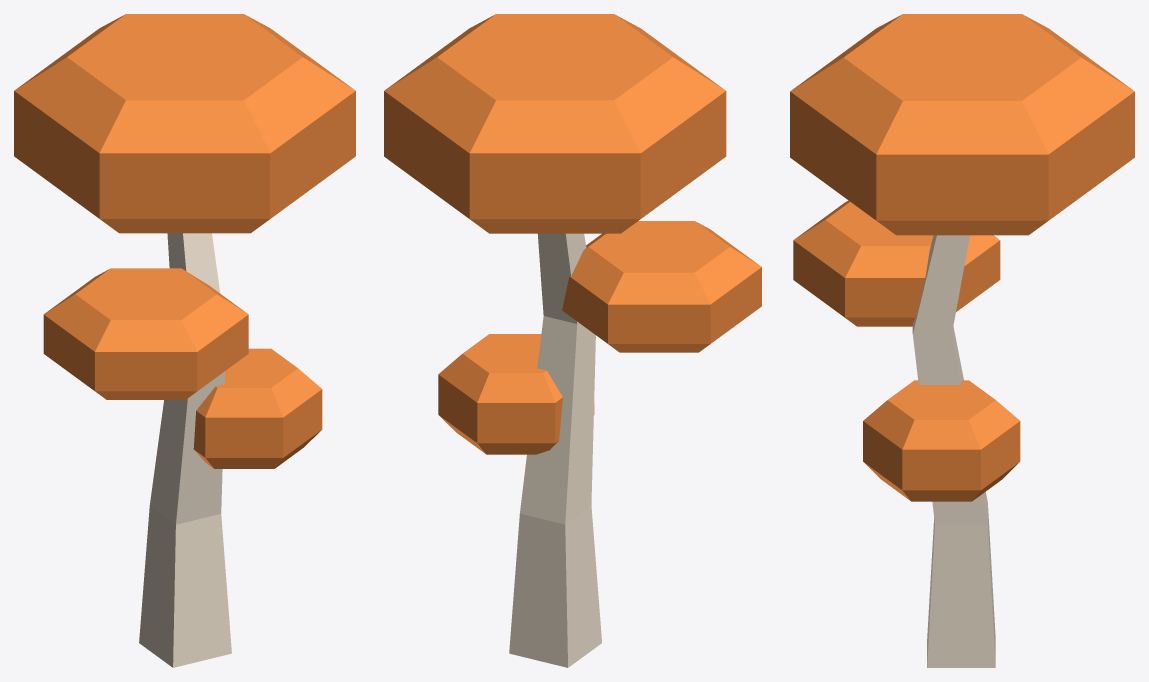
Rendered from tree_plateau_fall.dae.
3 views of the same model, side by side, from view 1: azimuth 30°, elevation 25°; view 2: azimuth 150°, elevation 25°; view 3: azimuth 270°, elevation 25° (orthographic).
Visible parts, largest first — view 1: tree_plateau_fall; view 2: tree_plateau_fall; view 3: tree_plateau_fall.
Part boxes in pixels (x1=…): tree_plateau_fall: x1=14, y1=14, x2=355, y2=667; tree_plateau_fall: x1=384, y1=14, x2=761, y2=667; tree_plateau_fall: x1=790, y1=14, x2=1134, y2=667.
Size of the model in its own units: 0.6117 by 1.25 by 0.6549.
